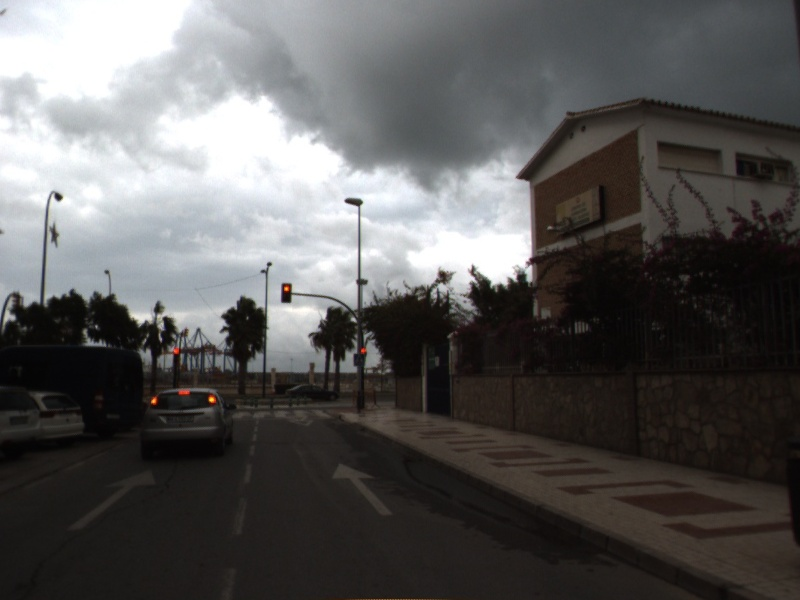STRAIGHT: (64, 466, 159, 532), (329, 460, 397, 518)
